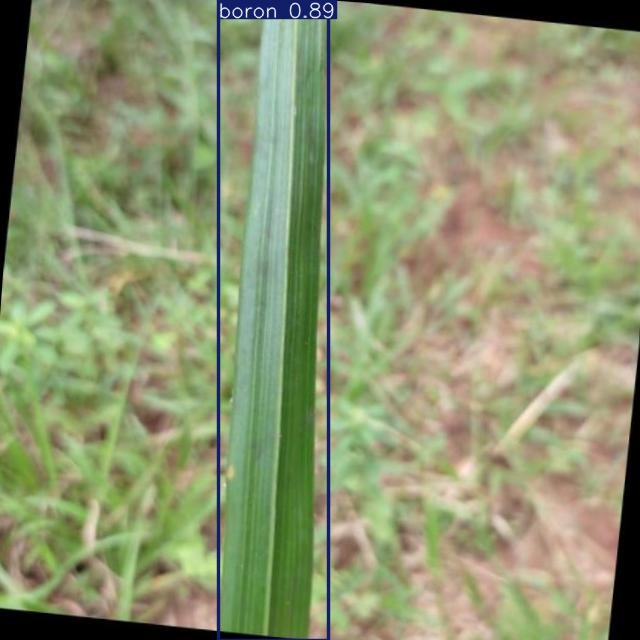nitrogen: (219, 1, 329, 640)
